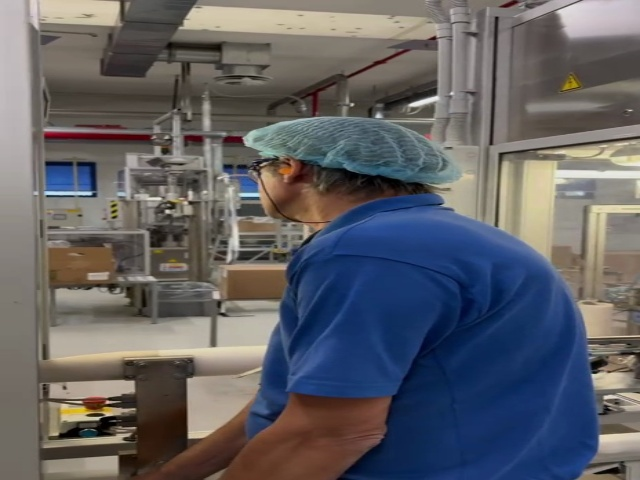Earplug: (276, 159, 302, 184)
Hairnet: (244, 116, 458, 185)
No_Helmet: (247, 120, 452, 168)
No_Vest: (246, 216, 593, 480)
Person: (241, 112, 598, 480)
Safety_Goggles: (245, 156, 282, 181)
